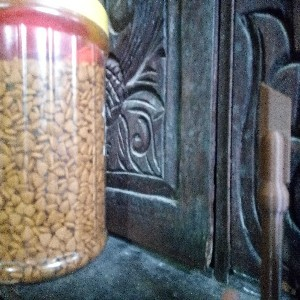cutter: (257, 82, 292, 300)
